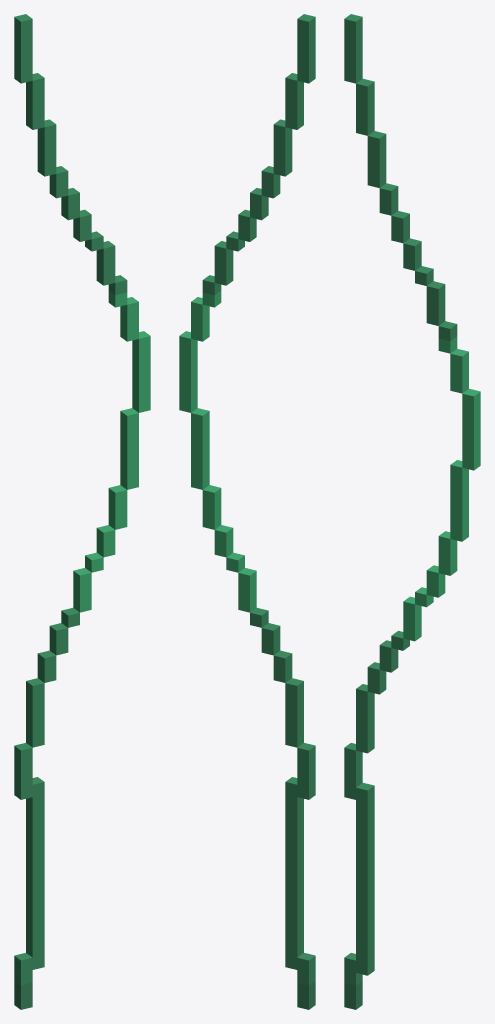
Rendered from vine1.fbx.
3 views of the same model, side by side, from view 1: azimuth 30°, elevation 25°; view 2: azimuth 150°, elevation 25°; view 3: azimuth 330°, elevation 25° (orthographic).
Visible parts, largest first — view 1: vine1; view 2: vine1; view 3: vine1.
Boxes of the visible parts, box(x1,y1,x2,y2) form: vine1: box(14, 14, 150, 1009); vine1: box(179, 14, 315, 1009); vine1: box(344, 14, 480, 1009).
Bounding box in the file's own units: 11 × 80 × 1.
Materials: 1 (1 with a texture image).
